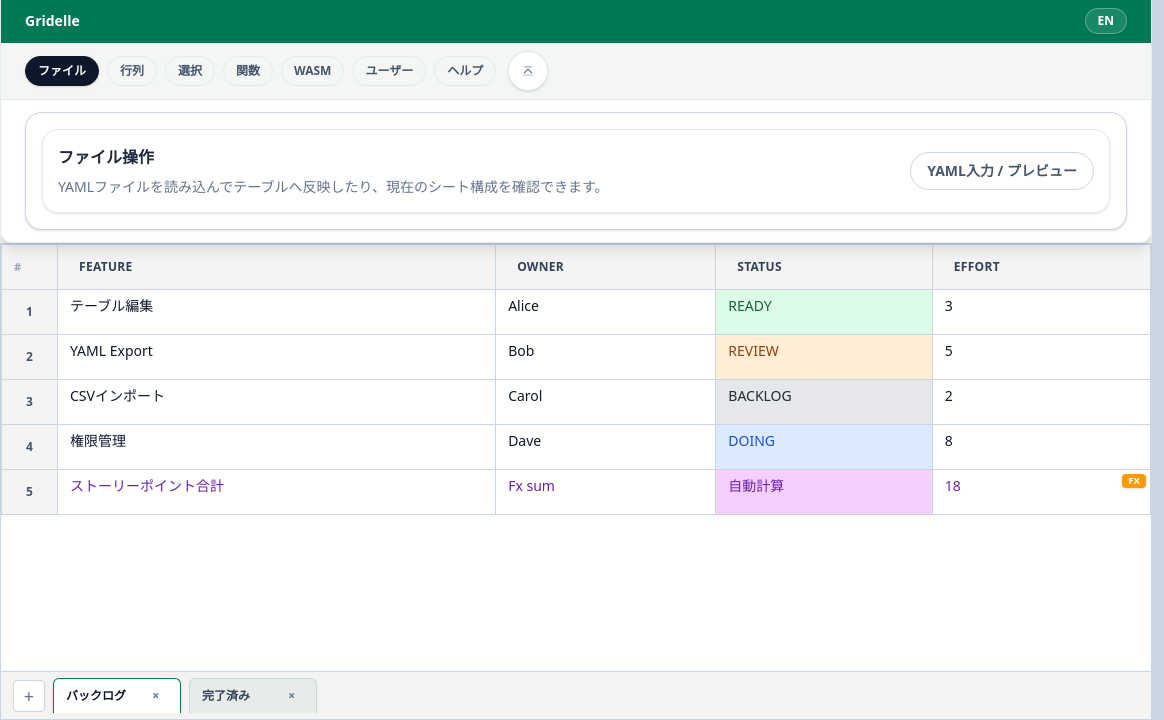
Test: App › 選択行を上へ移動できる
Click the button with test id "menu-tab-structure" at (132, 71), box top-left (107, 56), bottom-right (157, 86)
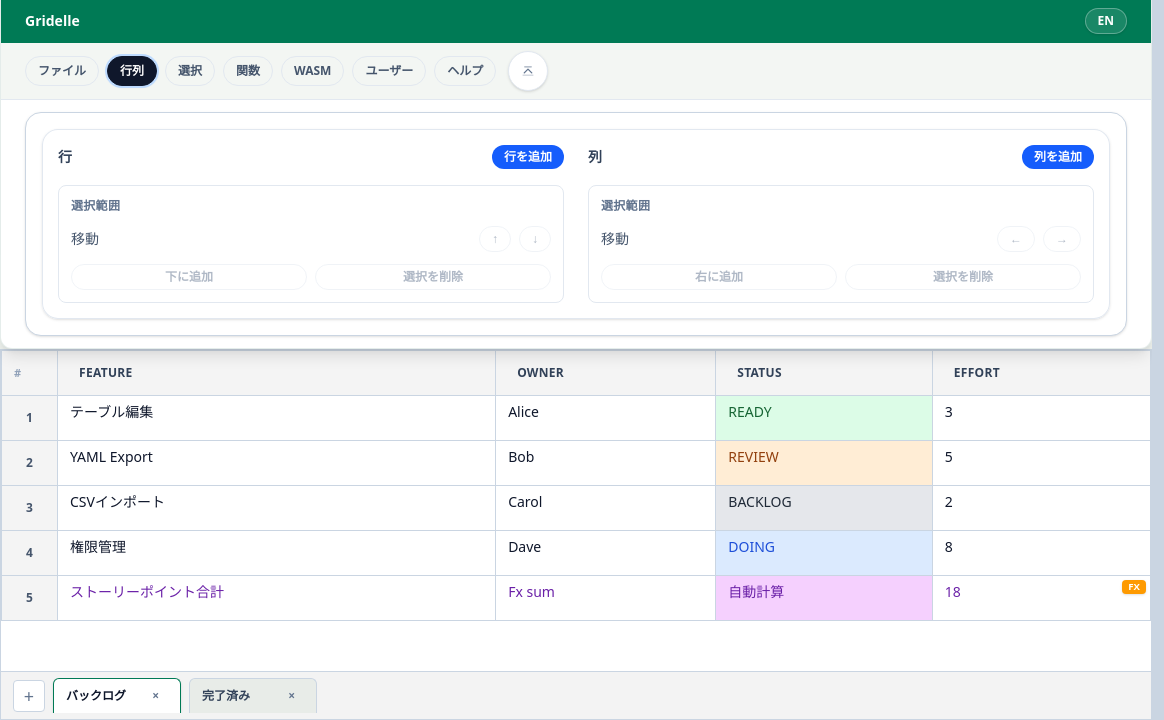
Click the button named "行2を選択" at (30, 463), box top-left (14, 447), bottom-right (45, 479)
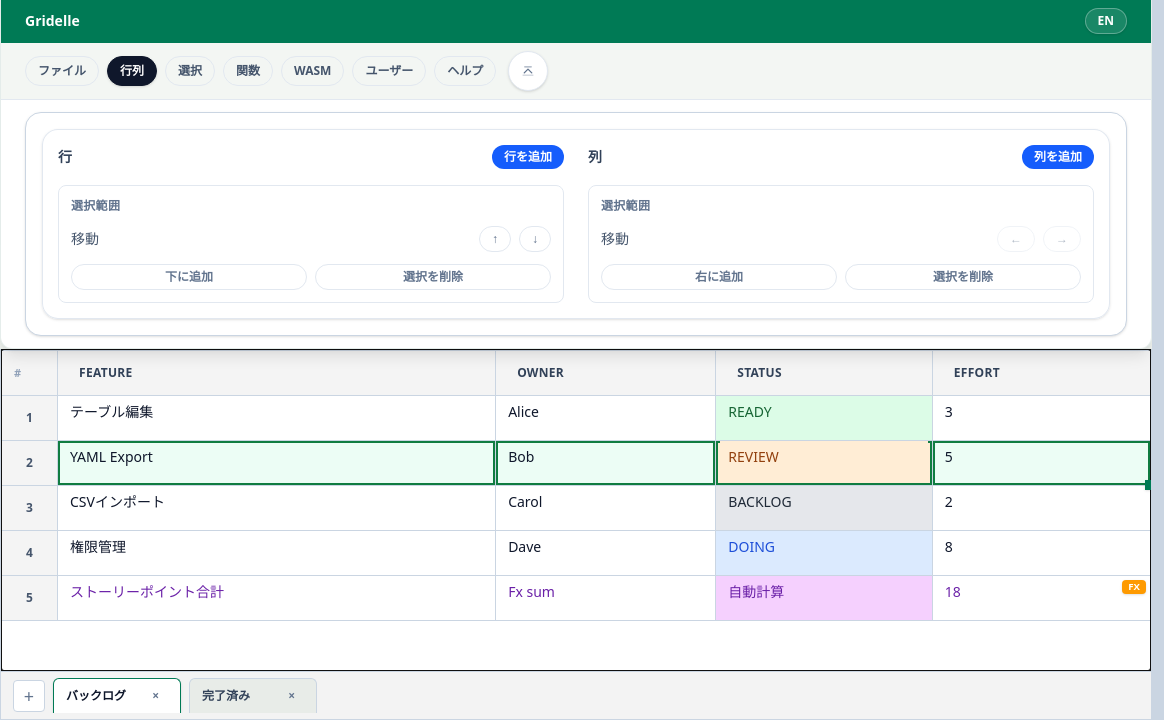
Click the button with test id "move-selected-rows-up" at (495, 239), box top-left (479, 226), bottom-right (511, 252)
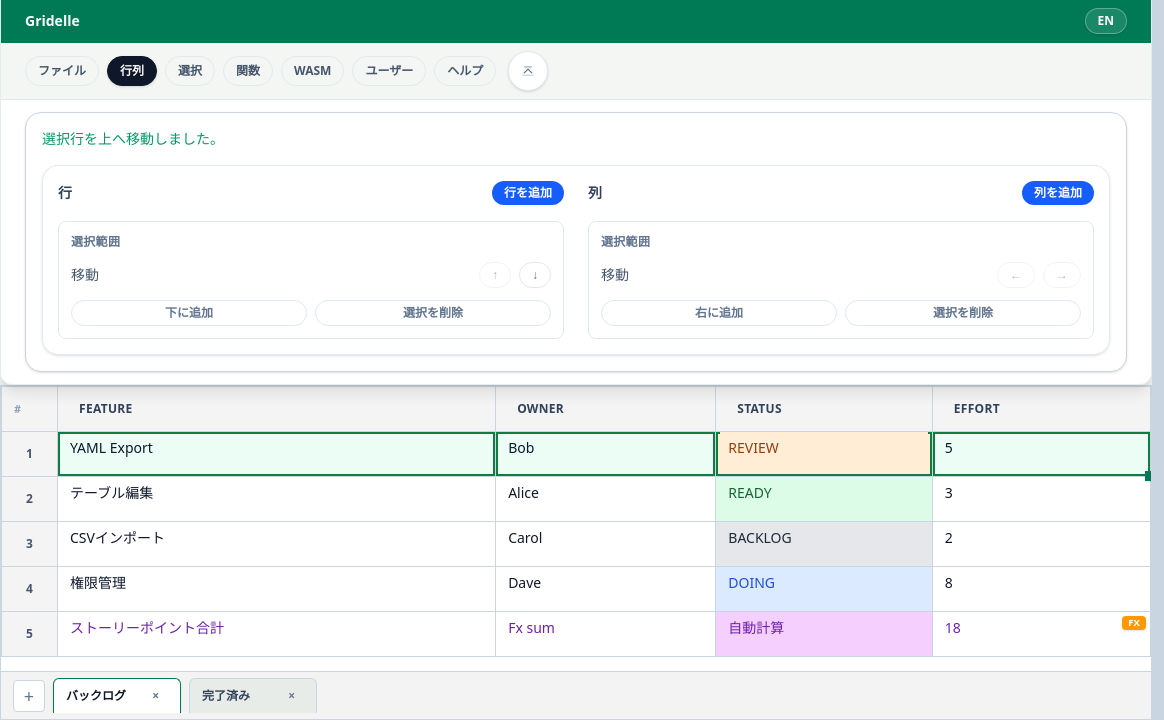
Check: the text with test id "cell-display-0-feature" reads "YAML Export", box top-left (70, 438), bottom-right (153, 457)
Check: the text with test id "cell-display-1-feature" reads "テーブル編集", box top-left (70, 483), bottom-right (153, 502)
